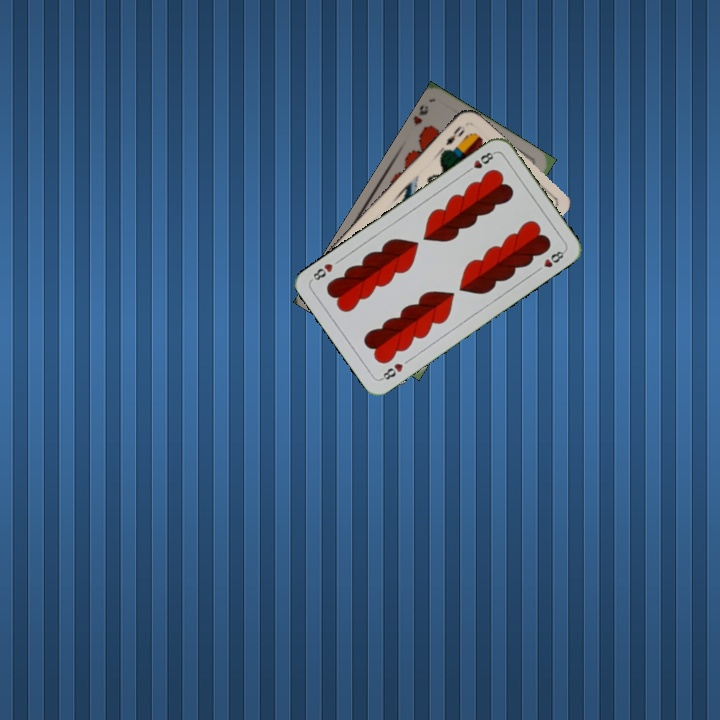EO: (441, 121, 467, 148)
H8: (462, 148, 498, 176), (377, 359, 406, 383)
H9: (409, 102, 431, 127)
